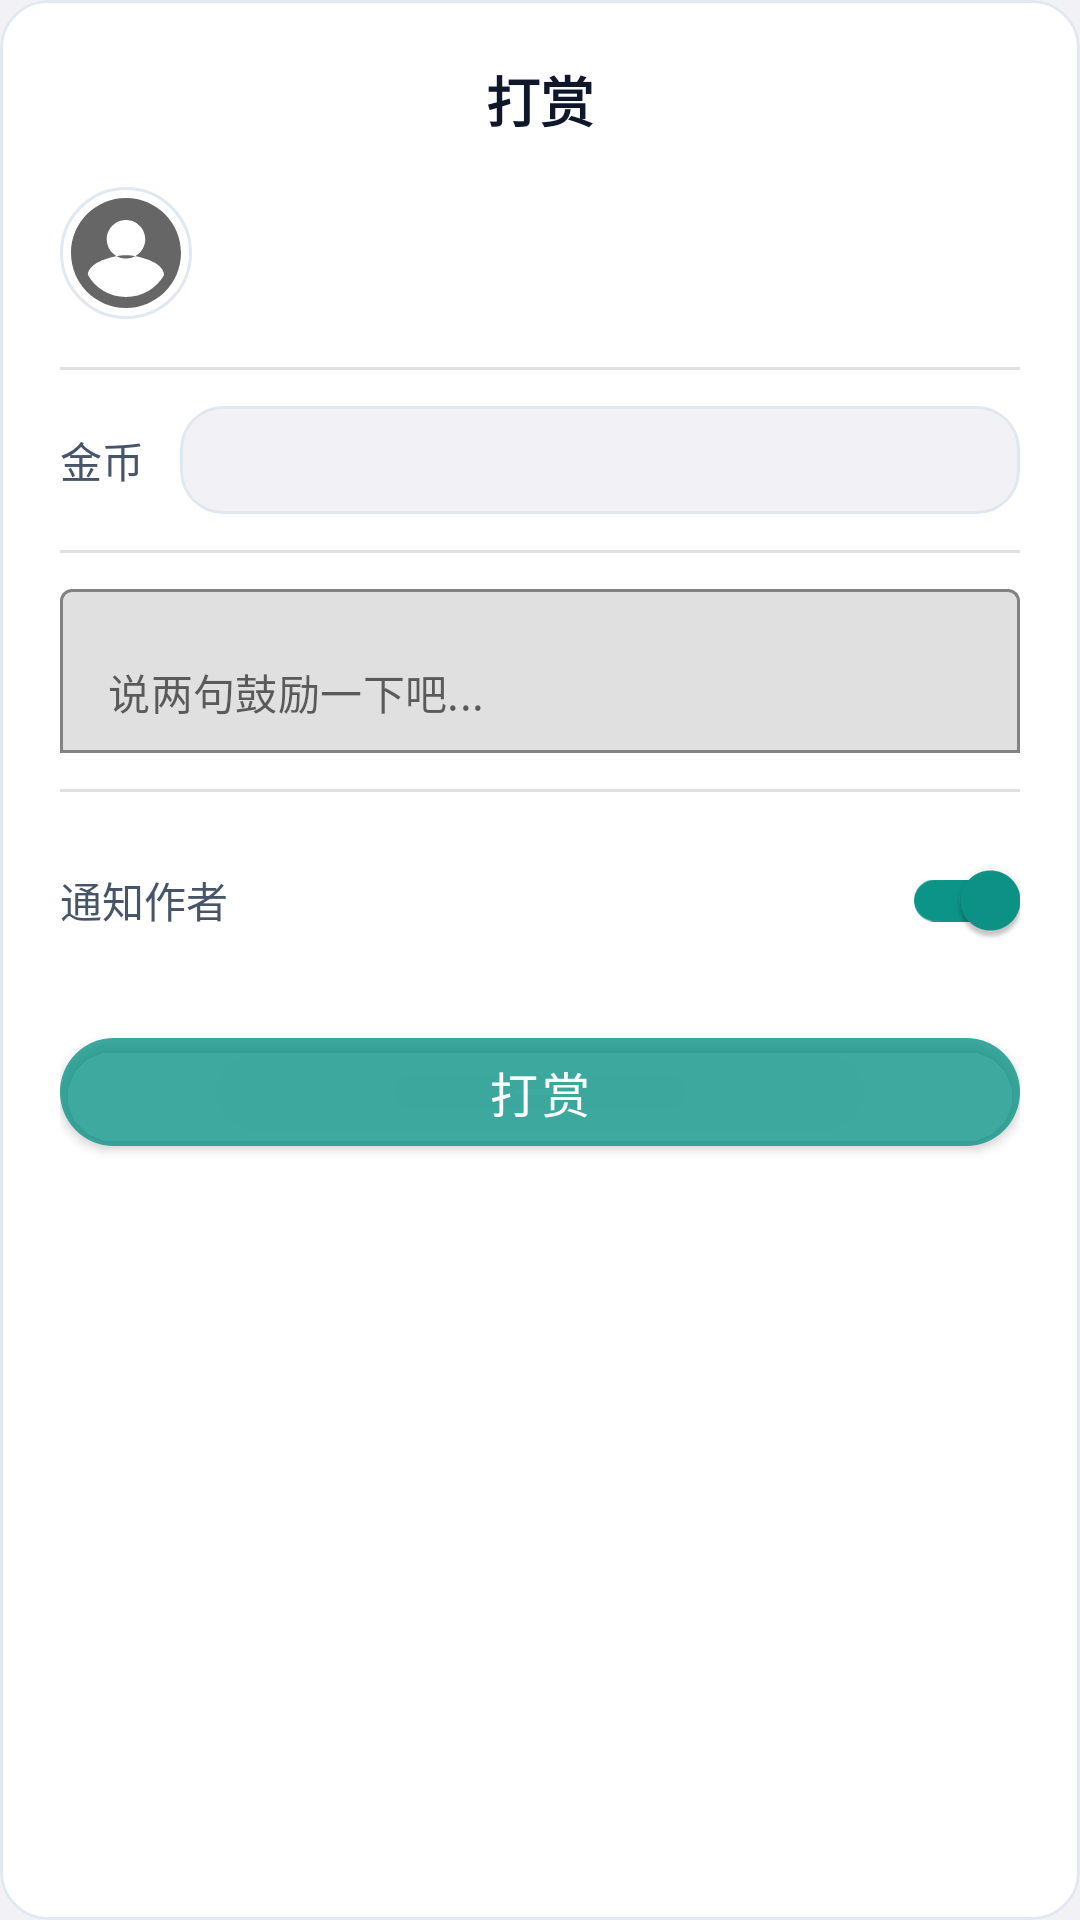

Where to tap for icons on this 1080 x 1920 app screen, as (x=x, y=y):
头像: (x=126, y=253)
